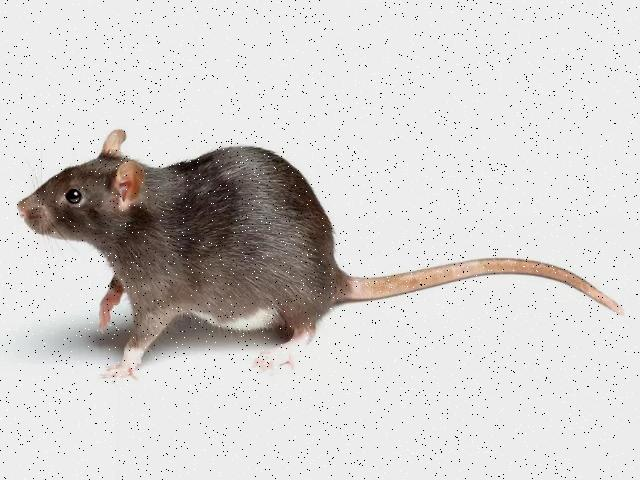Tikus: (15, 128, 626, 382)
